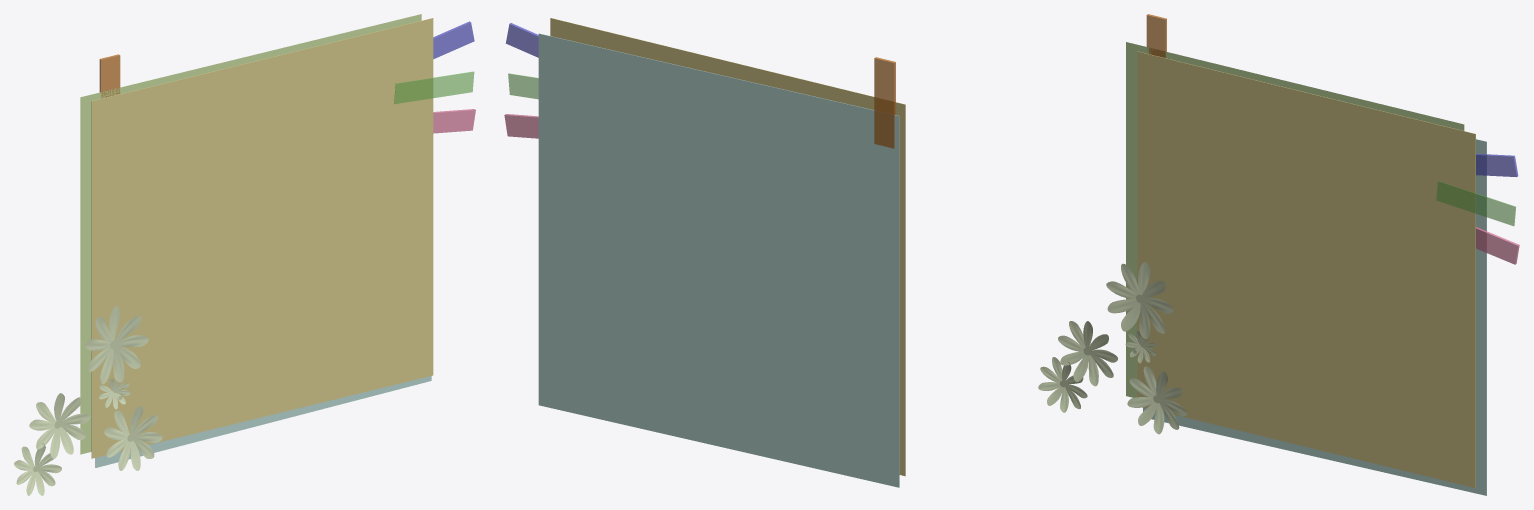
The picture shows the model from 3 angles, left to right: view 1: azimuth 30°, elevation 25°; view 2: azimuth 150°, elevation 25°; view 3: azimuth 330°, elevation 25°; orthographic projection. The views are drawn at different scales.
Parts seen in each view (by area): view 1: yellow_6, green_7, blue_5, Rectangle 5_1, Rectangle 6_3, Rectangle 3_4, Rectangle 4_2; view 2: blue_5, yellow_6, Rectangle 4_2, Rectangle 6_3, Rectangle 3_4, Rectangle 5_1; view 3: yellow_6, blue_5, green_7, Rectangle 5_1, Rectangle 6_3, Rectangle 3_4, Rectangle 4_2.
Boxes of the visible parts, x1,y1,x2,y2 form: yellow_6: (91,18,433,458); green_7: (80,14,421,454); blue_5: (95,376,431,467); Rectangle 5_1: (394,71,474,104); Rectangle 6_3: (433,109,475,133); Rectangle 3_4: (433,21,474,59); Rectangle 4_2: (99,54,120,98); blue_5: (538,33,899,487); yellow_6: (550,18,905,476); Rectangle 4_2: (874,57,895,148); Rectangle 6_3: (504,114,538,138); Rectangle 3_4: (505,23,538,57); Rectangle 5_1: (508,73,538,99); yellow_6: (1137,51,1475,488); blue_5: (1143,139,1486,495); green_7: (1126,42,1464,397); Rectangle 5_1: (1436,181,1515,225); Rectangle 6_3: (1476,227,1519,264); Rectangle 3_4: (1476,153,1518,177); Rectangle 4_2: (1146,14,1166,57).
Size of the model in its own units: 11.06 by 9.16 by 0.9029.
